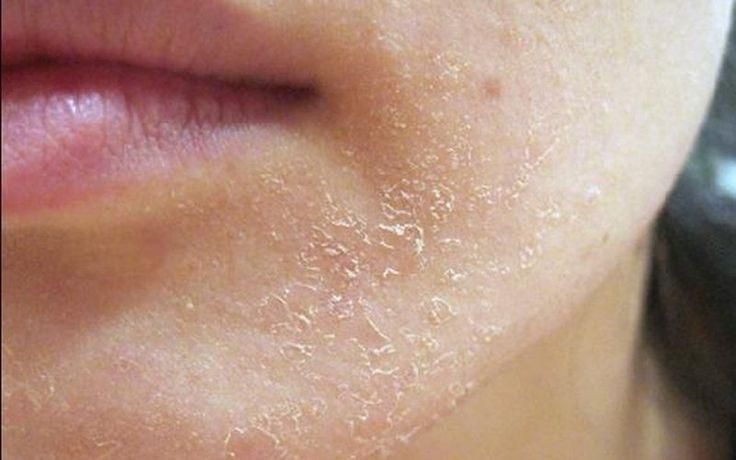Dry-Skin: (196, 336, 374, 460), (338, 172, 475, 330), (413, 39, 519, 158), (240, 253, 302, 399), (538, 185, 616, 279), (114, 265, 174, 378), (400, 347, 464, 415), (563, 101, 564, 235)
